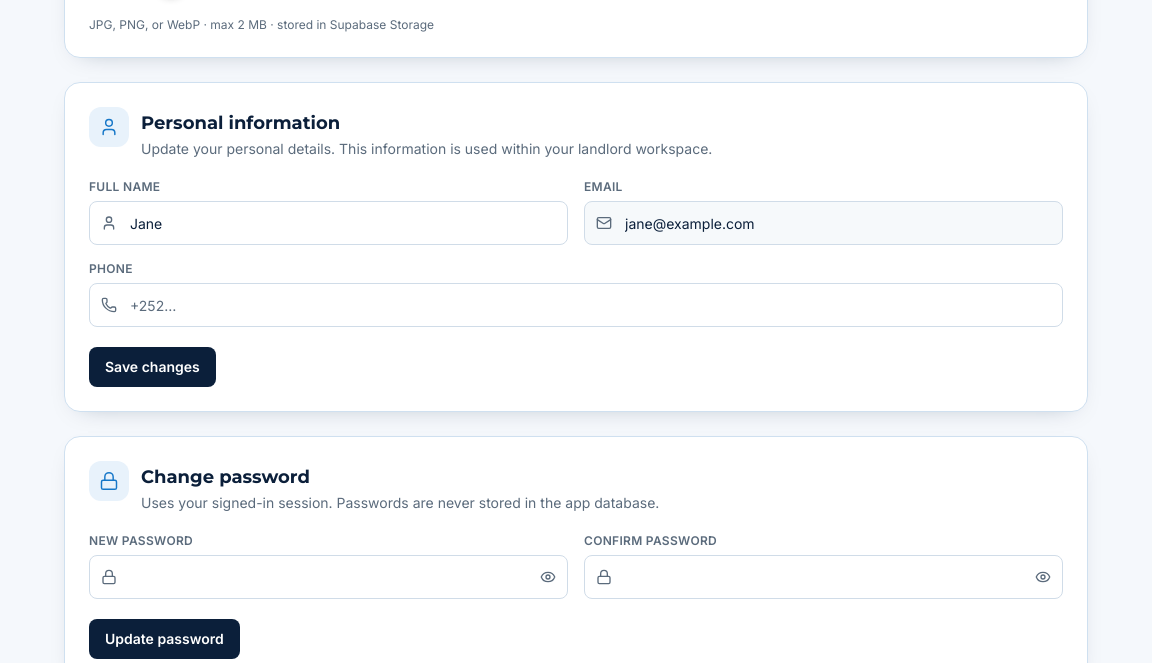
Test case: AccountPage change password › shows failure state from Auth
(page scrolled)
In the password field labelled "New password": (328, 577) x1=89 y1=555 x2=568 y2=599, type "password1"
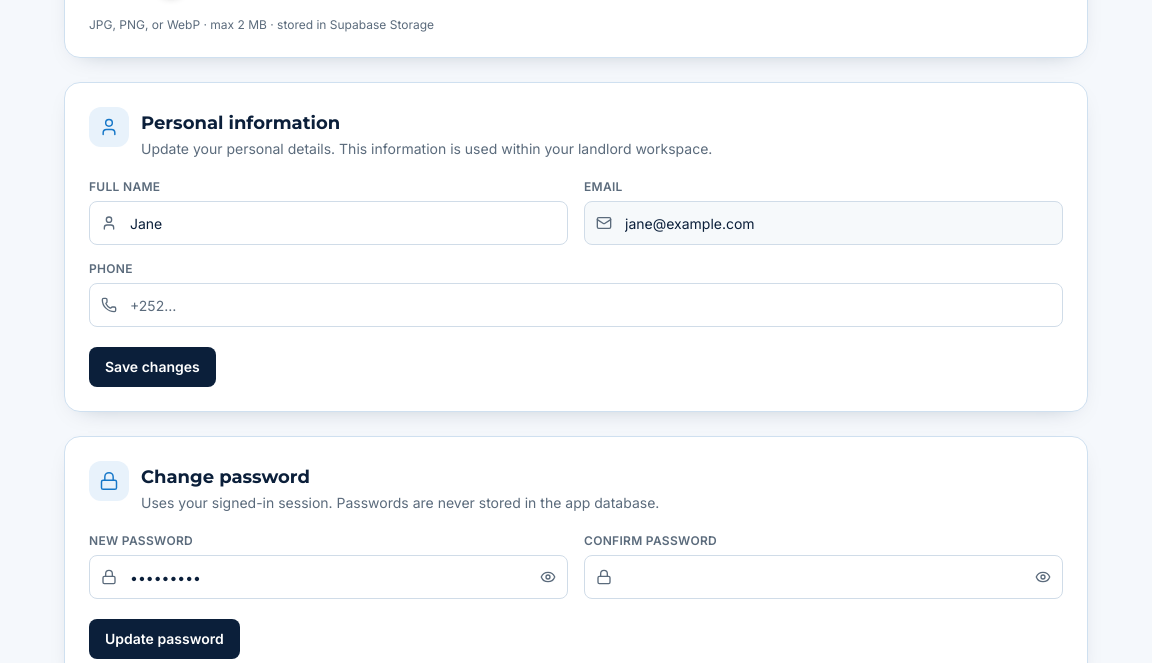
In the password field labelled "Confirm password": (824, 577) x1=584 y1=555 x2=1063 y2=599, type "password1"
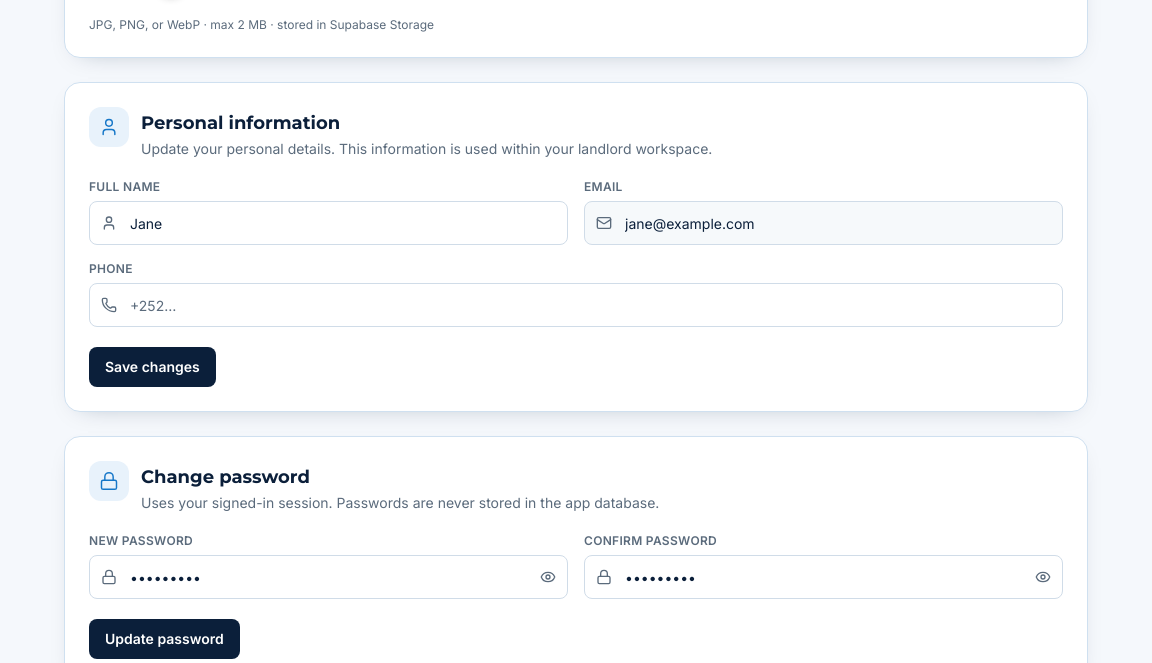
Click the button "Update password": (164, 639) x1=89 y1=619 x2=240 y2=659
(page scrolled)
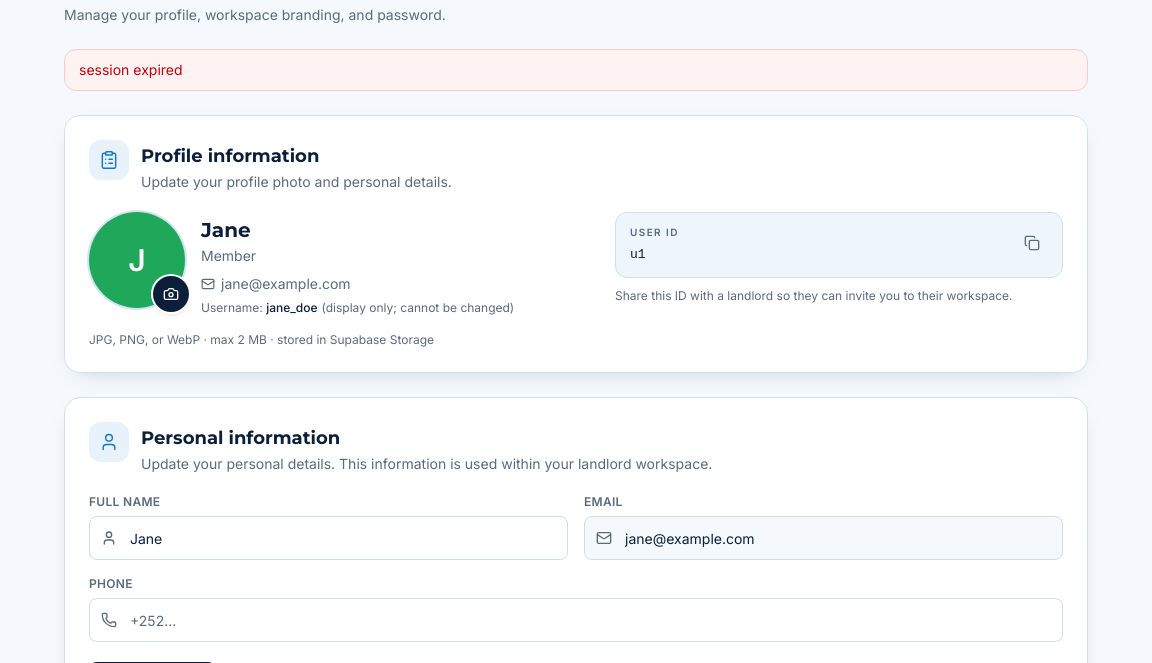
Now the text "session expired" is shown, box x1=64 y1=49 x2=1088 y2=91
